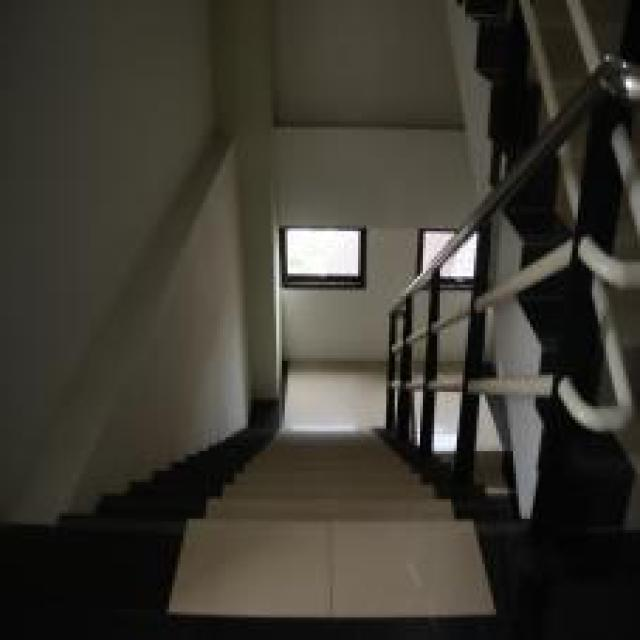downstair: (221, 441, 413, 587)
